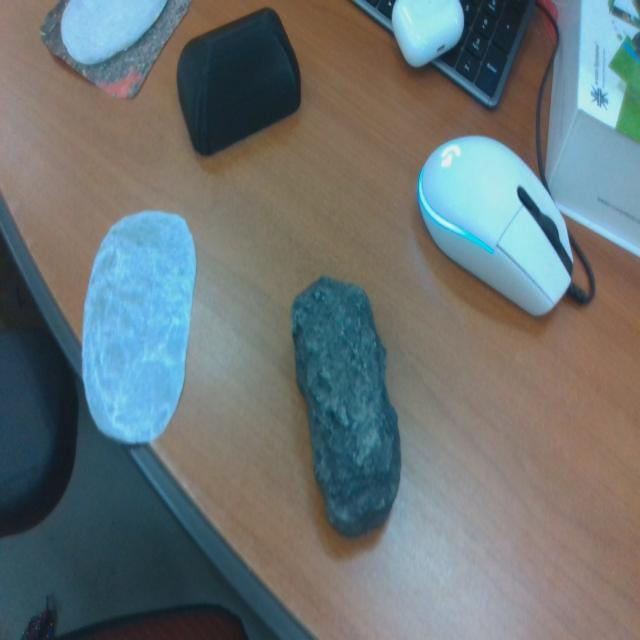stone: (291, 283, 400, 529)
